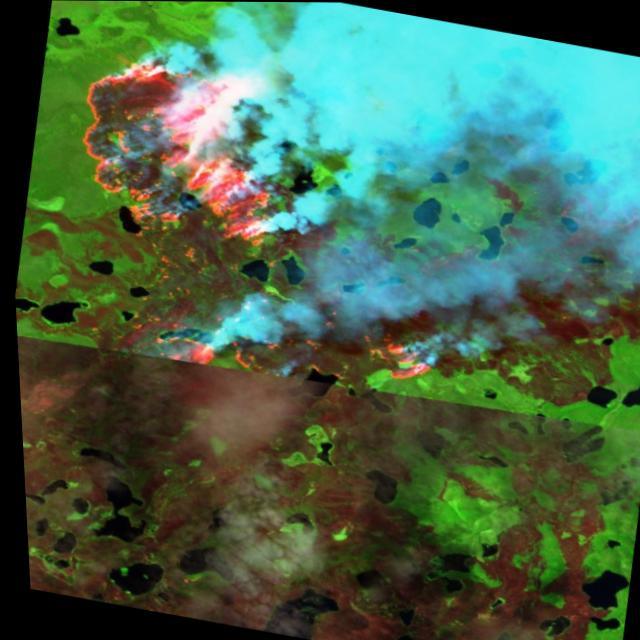fire: (57, 36, 299, 257), (97, 294, 263, 377), (340, 314, 453, 397)
